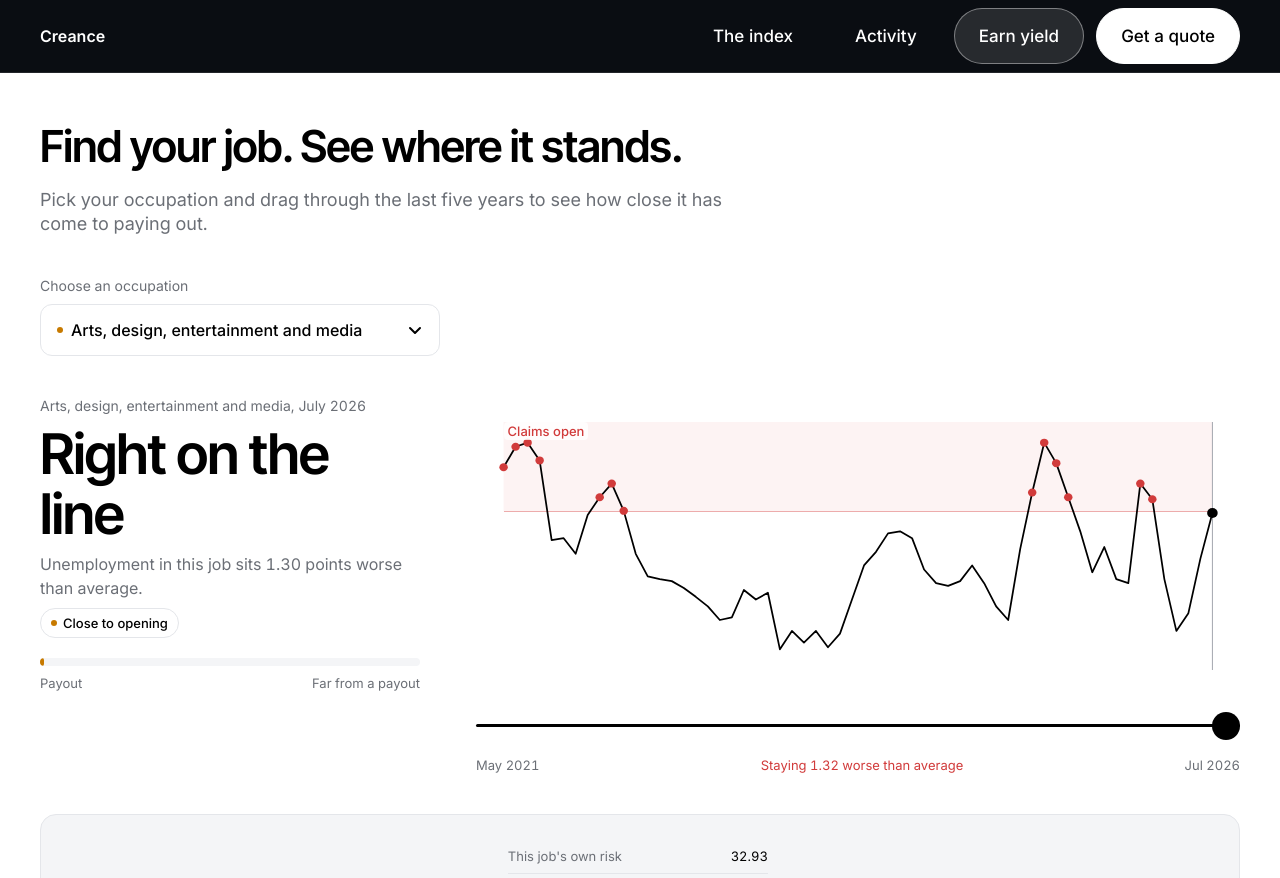
Test: the picker › filters the options as the visitor types, and says when nothing matches
Click the button at x=240, y=330, box [40,304,440,356]
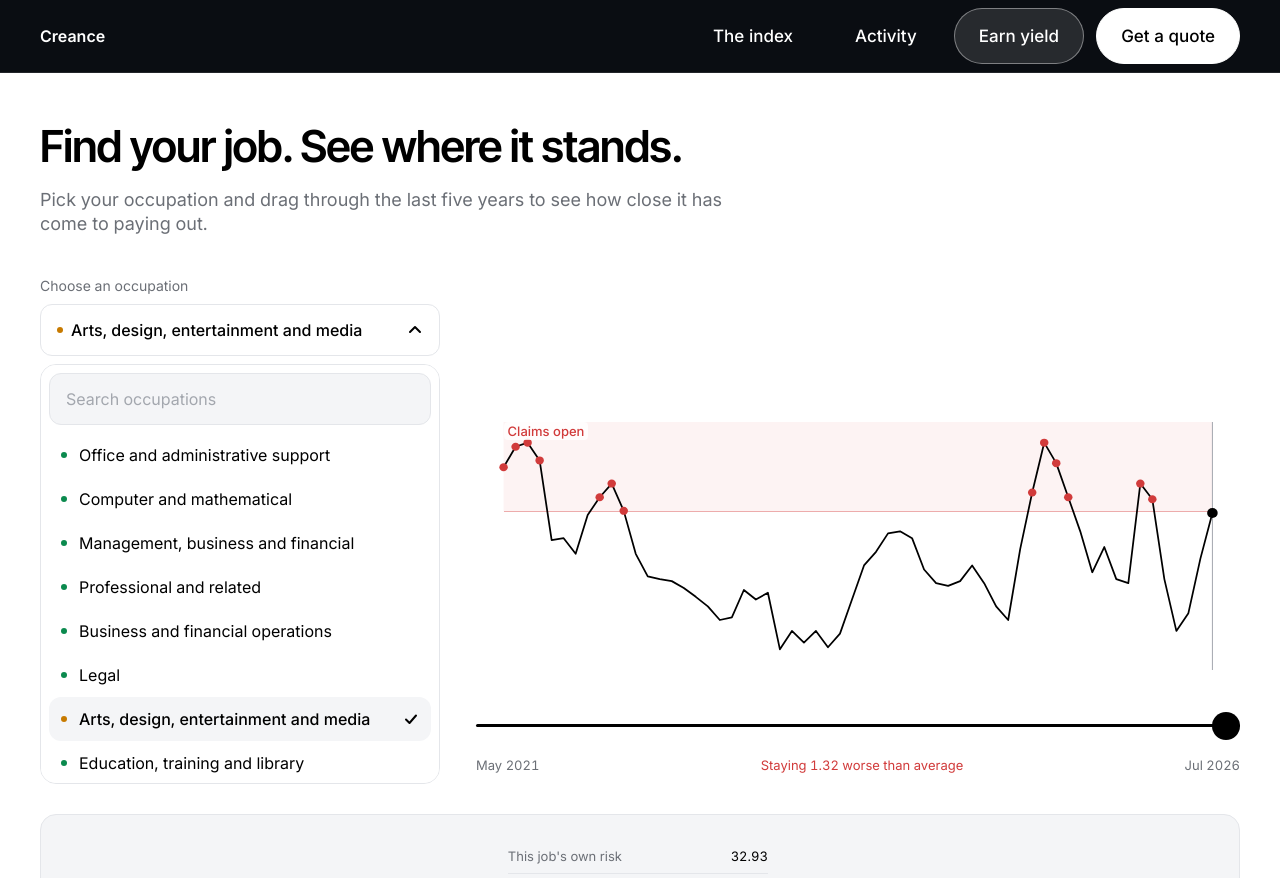
Type "legal" into the search field labelled "Search occupations" at x=240, y=399, box [49,373,431,425]
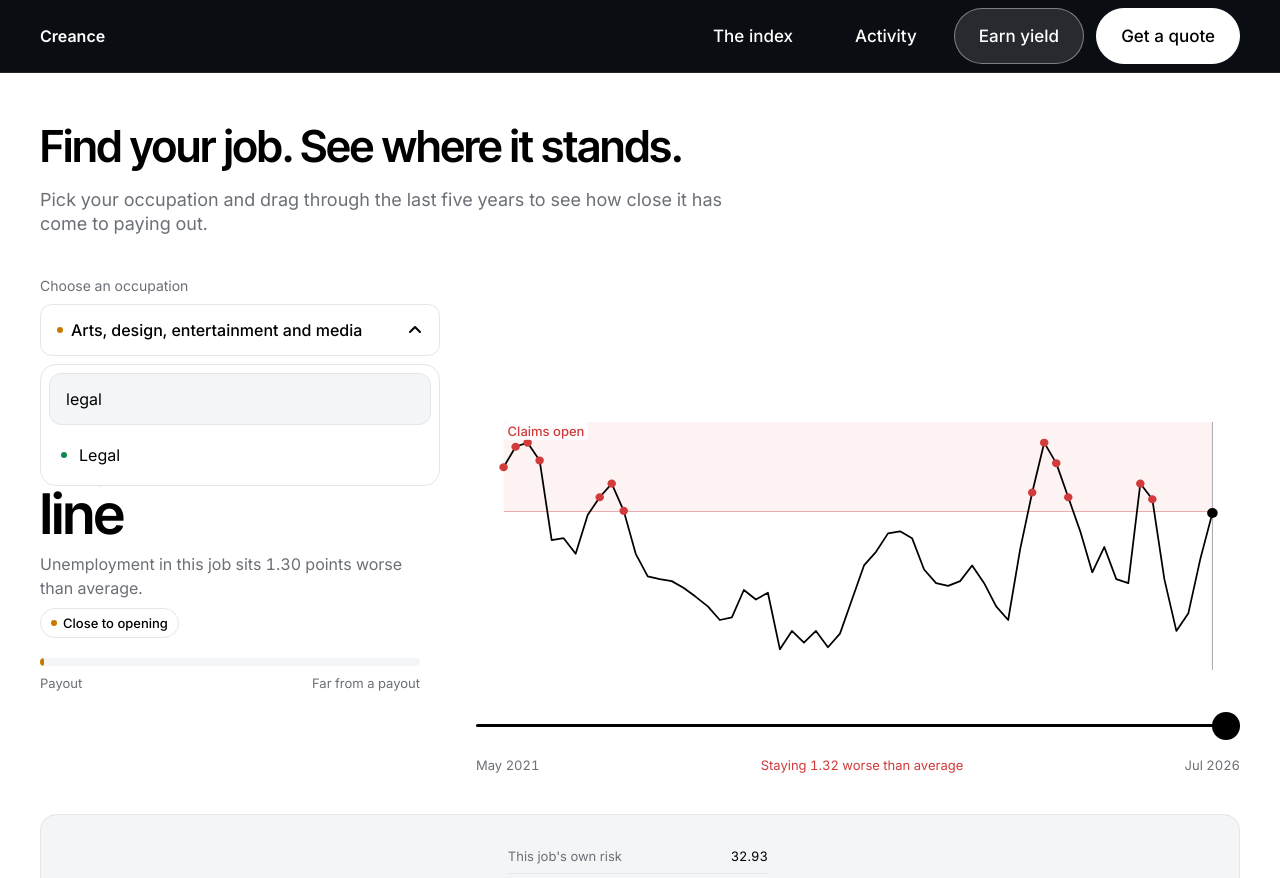
Replace the text in the search field named "Search occupations" with "astronaut" at x=240, y=399, box [49,373,431,425]
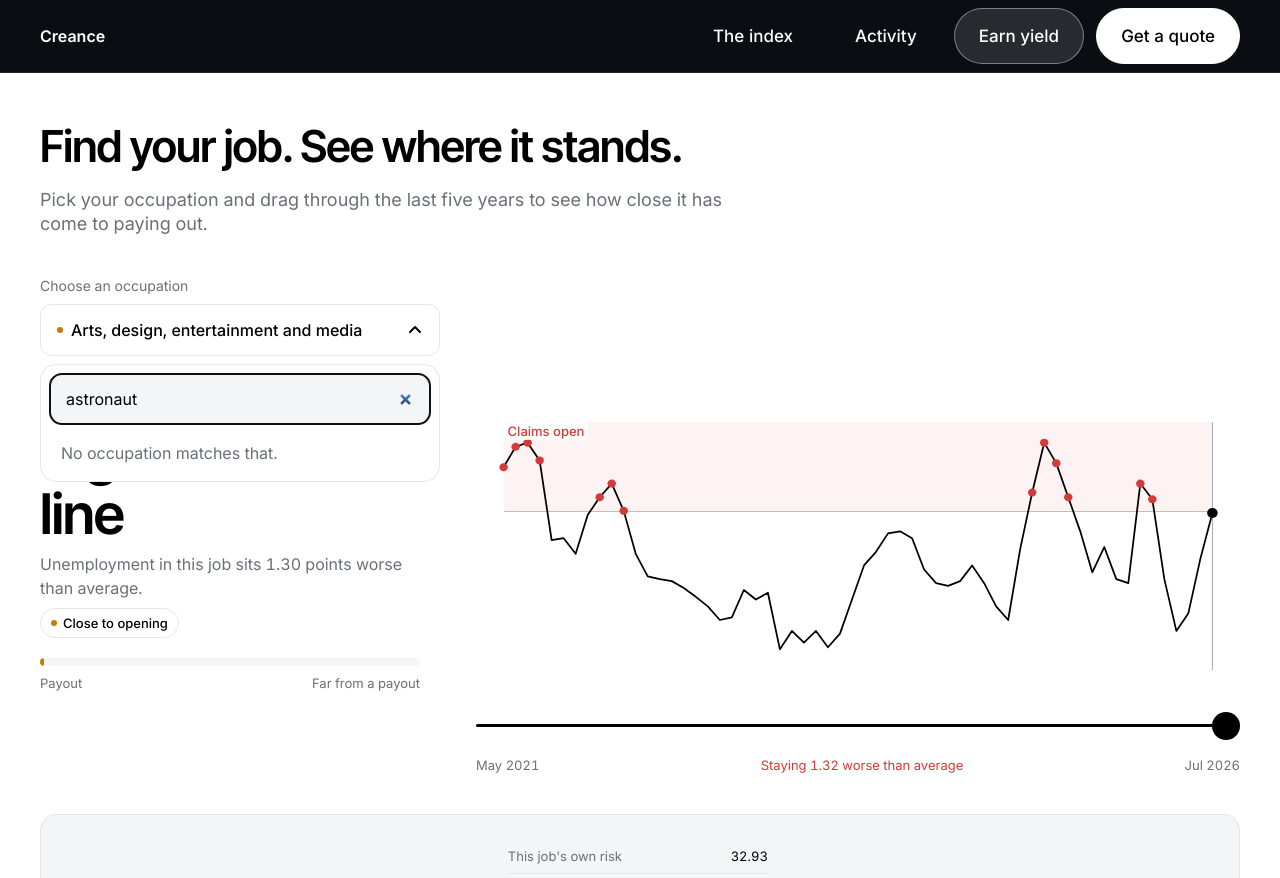
Expected: the text "No occupation matches that." is shown, [61,443,278,463]
